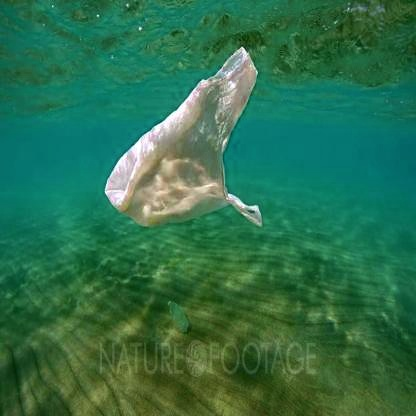pbag: (100, 46, 270, 240)
